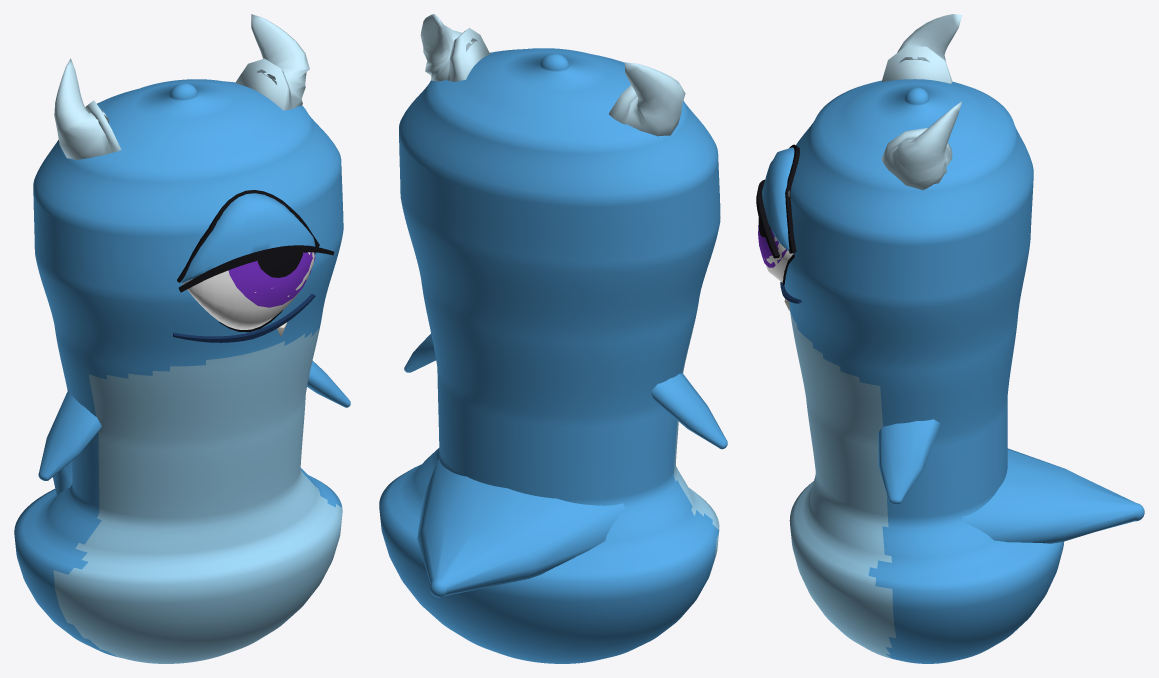
Rendered from frostcrawler.fbx.
3 views of the same model, side by side, from view 1: azimuth 30°, elevation 25°; view 2: azimuth 150°, elevation 25°; view 3: azimuth 270°, elevation 25° (orthographic). The views are drawn at different scales.
Visible parts, largest first — view 1: Slug_frostcrawler; view 2: Slug_frostcrawler; view 3: Slug_frostcrawler.
Boxes of the visible parts, box(x1,y1,x2,y2) form: Slug_frostcrawler: box(14, 14, 350, 663); Slug_frostcrawler: box(379, 14, 727, 663); Slug_frostcrawler: box(756, 14, 1144, 663).
Size of the model in its own units: 0.3769 by 0.6985 by 0.4186.
